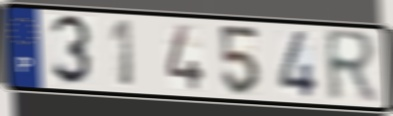1: (108, 17, 134, 91)
3: (47, 13, 98, 89)
4: (277, 28, 320, 101), (164, 22, 207, 93)
5: (218, 22, 263, 99)
R: (322, 27, 380, 107)
